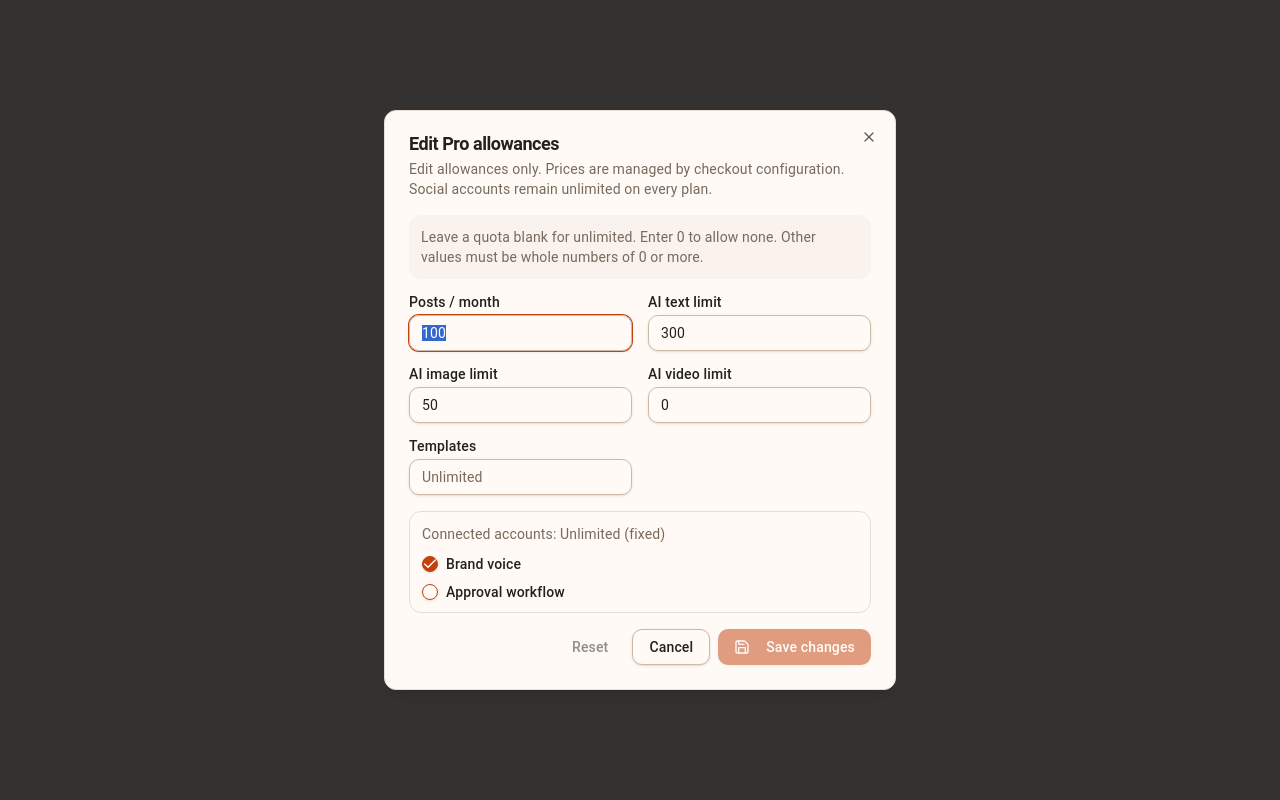
PricingPlanEditModal › rejects invalid quota -1 rather than silently treating it as unlimited
Replace the text in the field labelled "Posts / month" with "-1" at (520, 333), box [409,315,632,351]
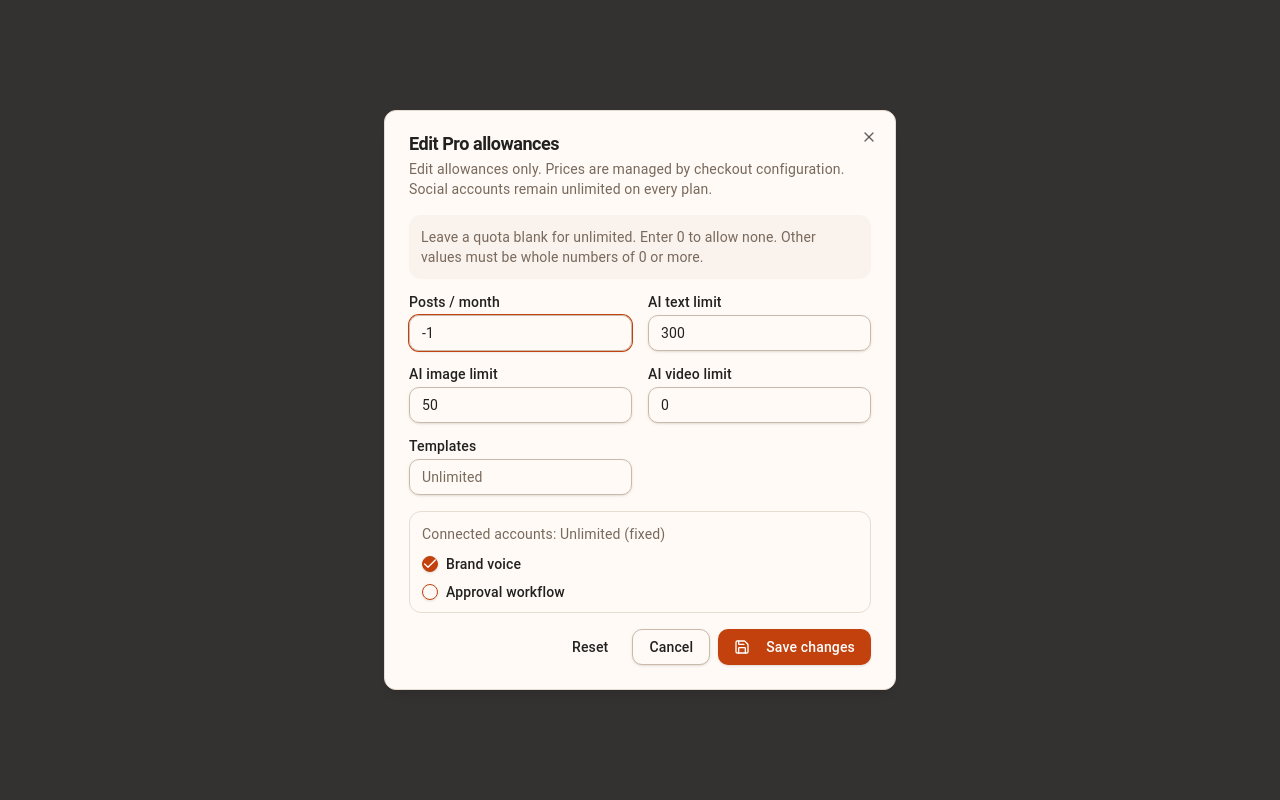
Click the button "Save changes".
click(795, 647)  # box [718,629,871,665]
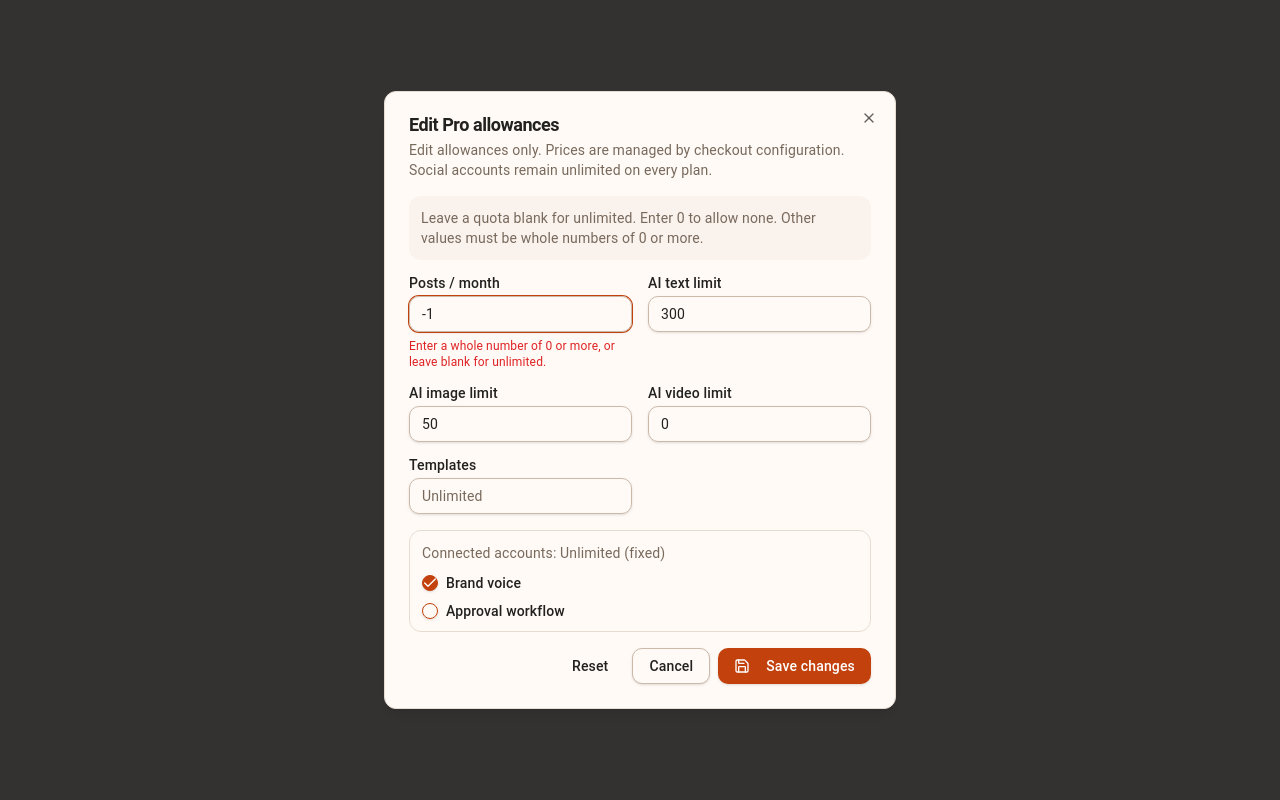
Expected: the text "Enter a whole number of 0 or more, or leave blank for unlimited." is shown, [409,338,632,370]
